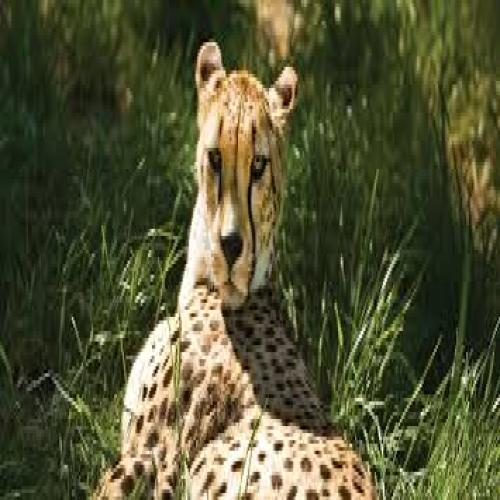cheetah-endangered: (106, 42, 372, 500)
